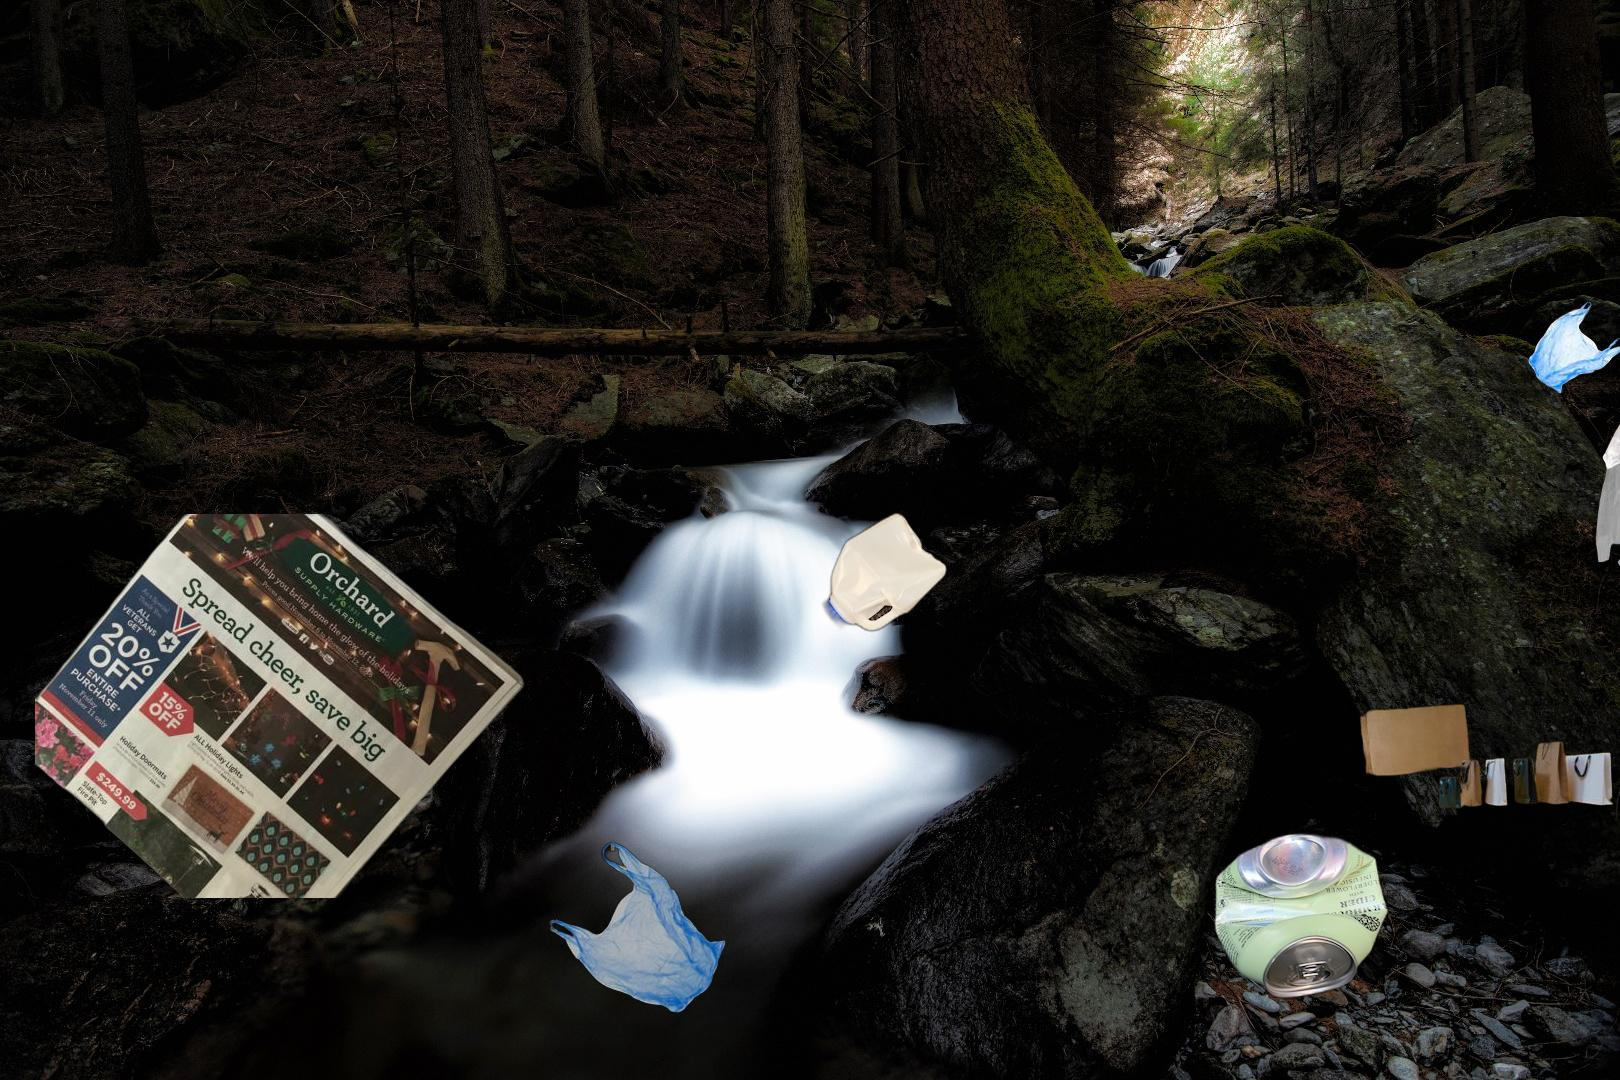metal-cans: (1209, 828, 1620, 1080)
paper: (35, 513, 528, 898)
paper-bag: (1358, 702, 1615, 812)
plastic-bag: (542, 839, 727, 1016), (1525, 298, 1620, 576)
plastic-bottles: (818, 506, 951, 636)
